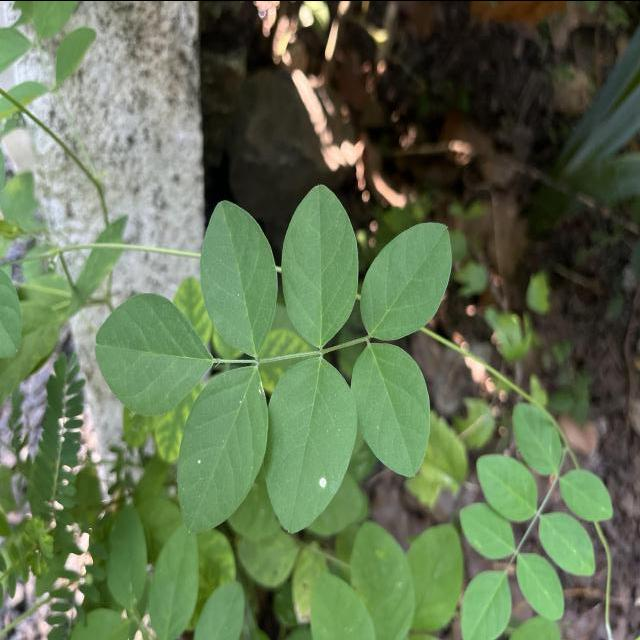Clitoria ternatea: (261, 354, 358, 534), (176, 364, 270, 534), (94, 289, 215, 416), (280, 182, 359, 348), (199, 198, 279, 356), (359, 220, 454, 340), (350, 339, 431, 477)
